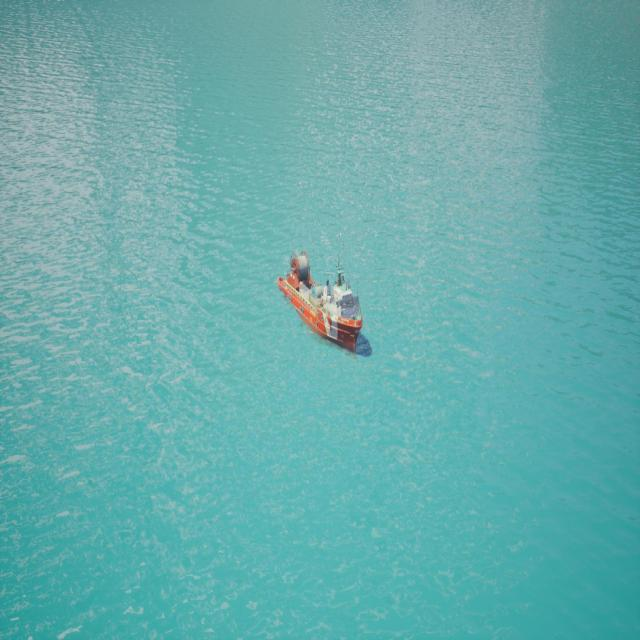tug boat: (277, 267, 367, 354)
